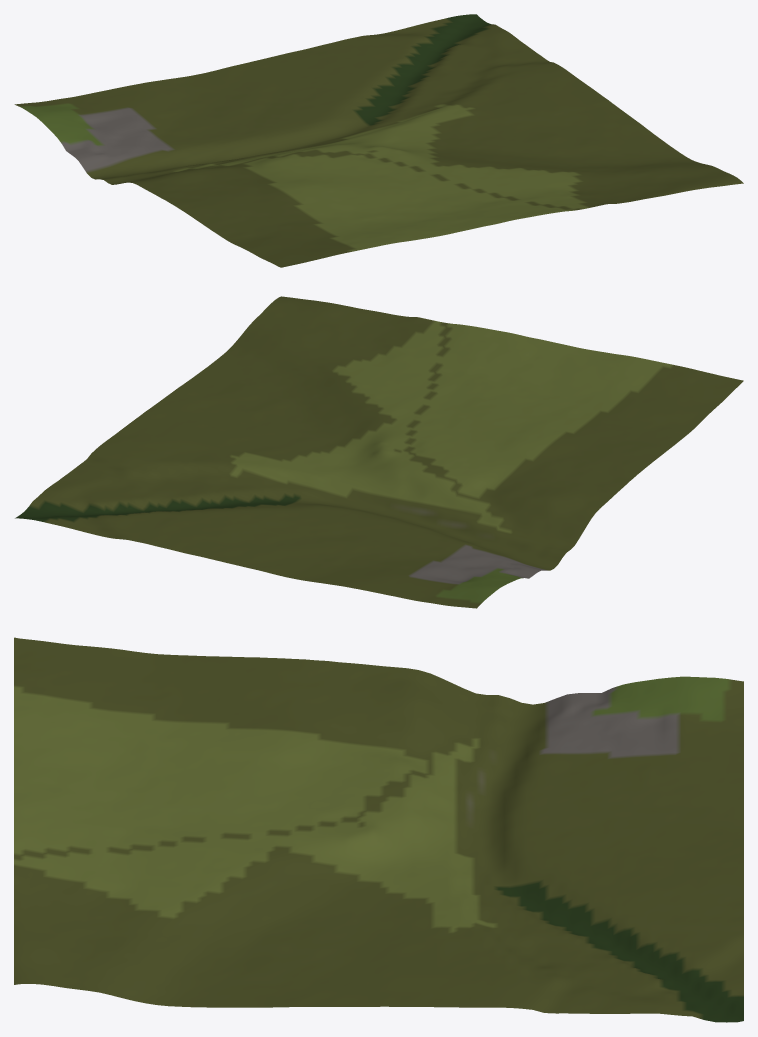
File: terrain_17_-10.glb
3 renders of one model, top to bottom at view 1: azimuth 30°, elevation 25°; view 2: azimuth 150°, elevation 25°; view 3: azimuth 270°, elevation 25°, orthographic. The views are drawn at different scales.
Parts seen in each view (by area): view 1: terrain_17_-10; view 2: terrain_17_-10; view 3: terrain_17_-10.
Boxes of the visible parts, left/top/right/bottom form: terrain_17_-10: left=14, top=14, right=743, bottom=267; terrain_17_-10: left=15, top=296, right=743, bottom=608; terrain_17_-10: left=14, top=637, right=743, bottom=1022.
Size of the model in its own units: 256 by 29.61 by 256.
